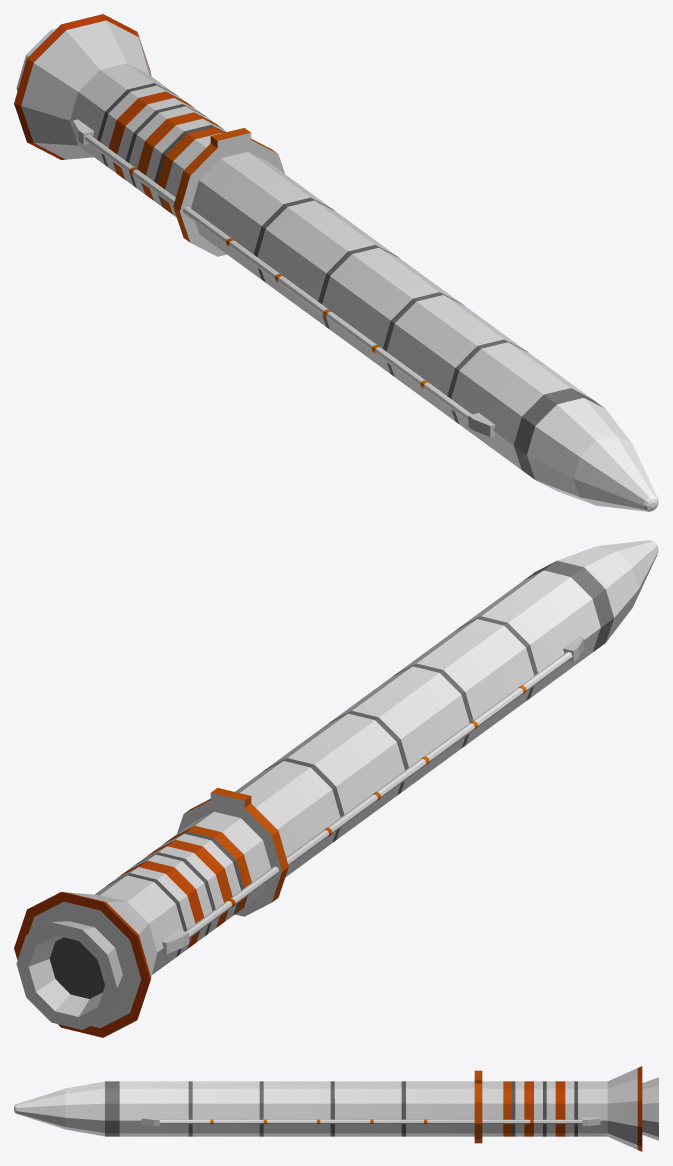
Rendered from solid rocket booster.fbx.
3 views of the same model, one above another, from view 1: azimuth 30°, elevation 25°; view 2: azimuth 150°, elevation 25°; view 3: azimuth 270°, elevation 25° (orthographic). The views are drawn at different scales.
Visible parts, largest first — view 1: solid rocket booster; view 2: solid rocket booster; view 3: solid rocket booster.
Part boxes in pixels (x1,y1,x2,y2): solid rocket booster: (14, 14, 658, 511); solid rocket booster: (14, 540, 658, 1037); solid rocket booster: (14, 1066, 658, 1151).
Bounding box in the file's own units: 370 × 352 × 2757.
